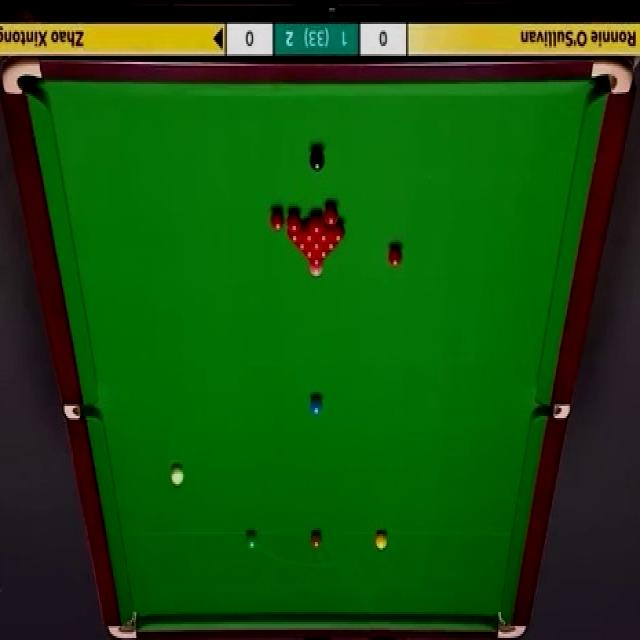black-ball: (309, 147, 326, 173)
blue-ball: (310, 395, 324, 417)
brown-ball: (309, 530, 324, 552)
green-ball: (245, 530, 260, 550)
pink-ball: (308, 264, 324, 278)
red-ball: (386, 242, 404, 267), (268, 206, 284, 231), (329, 224, 347, 244), (322, 205, 338, 227), (308, 214, 324, 234), (287, 210, 301, 232), (301, 223, 314, 242), (315, 228, 329, 244), (288, 225, 300, 243), (293, 242, 309, 251), (308, 258, 325, 266), (307, 242, 323, 250), (316, 250, 332, 258), (323, 242, 337, 251), (302, 250, 316, 258)
white-ball: (169, 461, 185, 488)
yellow-ball: (375, 531, 388, 552)
